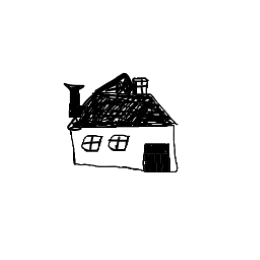chimney: (63, 80, 93, 119), (132, 73, 155, 100)
closed_window: (105, 132, 131, 155), (78, 133, 105, 154)
door: (139, 140, 175, 177)
shaded_roof: (61, 67, 179, 132)
small_house: (1, 3, 260, 260)
wall: (68, 125, 182, 176)
